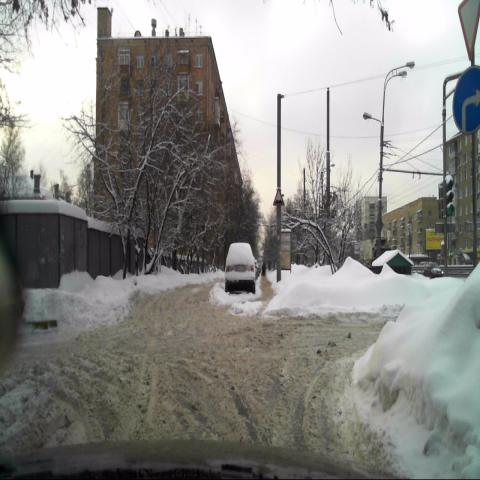1_16: (272, 188, 284, 206)
2_4: (456, 0, 480, 65)
4_1_2: (452, 65, 480, 136)
